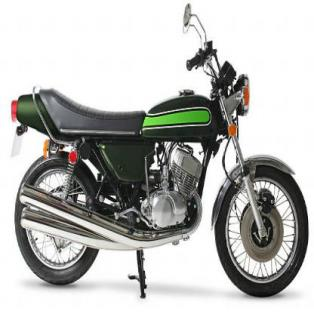Motocicleta: (9, 4, 311, 298)
